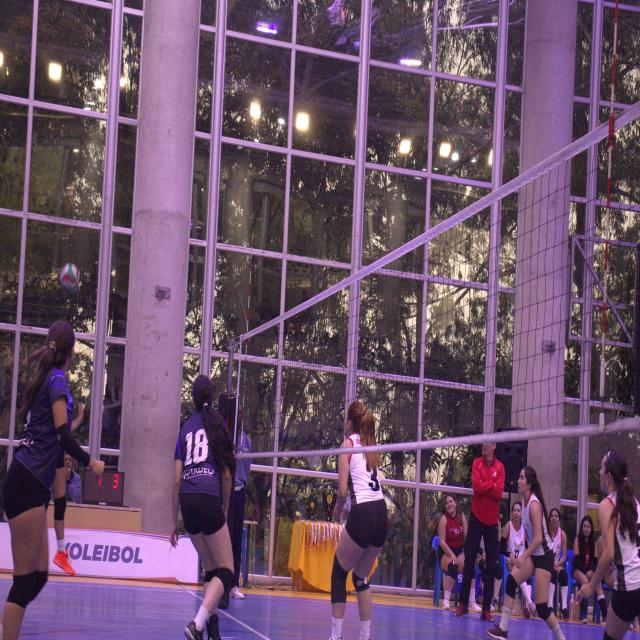volleyball: (60, 262, 80, 294)
